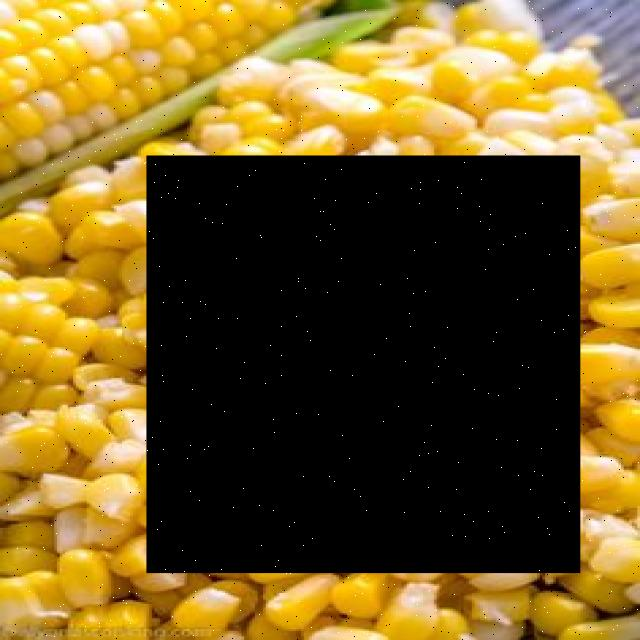Corn: (146, 157, 581, 575)
